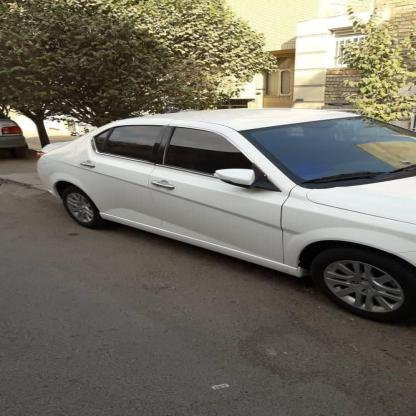Car: (39, 103, 416, 313), (0, 117, 39, 167)
